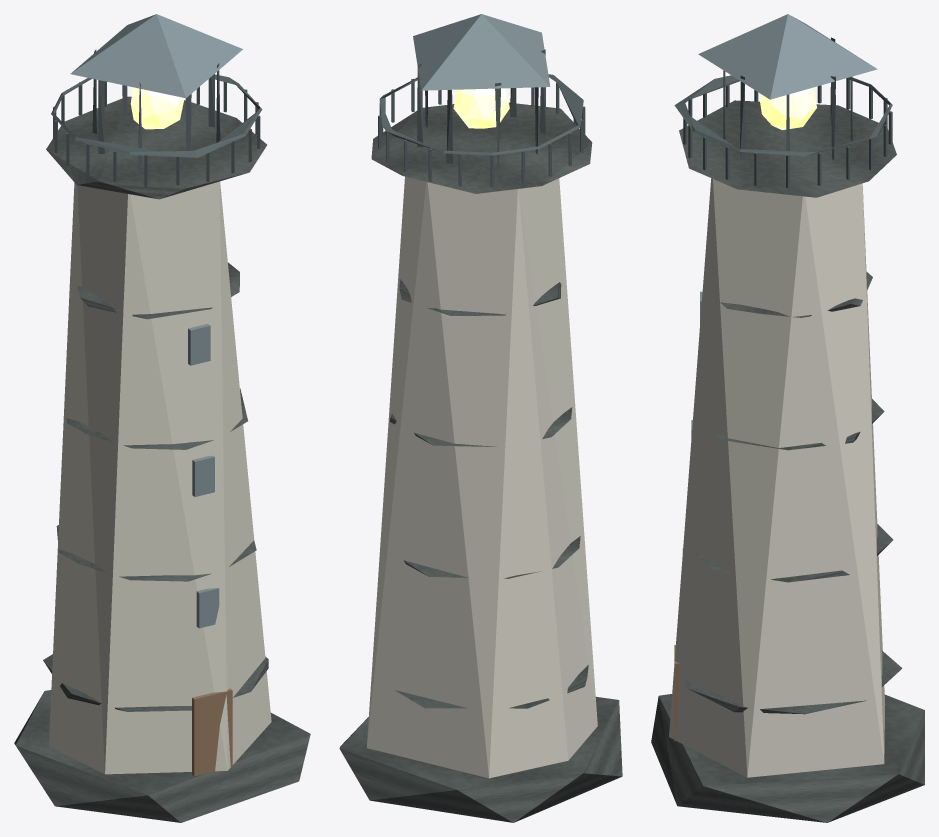
File: lighthouse.lighthouse.lod2.glb
3 views of the same model, side by side, from view 1: azimuth 30°, elevation 25°; view 2: azimuth 150°, elevation 25°; view 3: azimuth 270°, elevation 25° (orthographic).
Visible parts, largest first — view 1: Tower, Plinth, Gallery, Roof, Door, GalleryRail, Lens, StoneCourse, StoneCourse.003, StoneCourse.001, StoneCourse.002, Window.002 (+2 smaller); view 2: Tower, Plinth, Gallery, Roof, Lens, GalleryRail, StoneCourse, StoneCourse.003, StoneCourse.001, StoneCourse.002; view 3: Tower, Plinth, Gallery, Roof, GalleryRail, Lens, StoneCourse, StoneCourse.001, StoneCourse.003, StoneCourse.002.
Boxes of the visible parts, left/top/right/bottom form: Tower: left=49, top=181, right=271, bottom=774; Plinth: left=14, top=690, right=310, bottom=822; Gallery: left=46, top=96, right=266, bottom=199; Roof: left=70, top=14, right=242, bottom=98; Door: left=192, top=688, right=232, bottom=776; GalleryRail: left=51, top=74, right=262, bottom=157; Lens: left=130, top=87, right=184, bottom=129; StoneCourse: left=43, top=654, right=268, bottom=711; StoneCourse.003: left=77, top=262, right=239, bottom=319; StoneCourse.001: left=56, top=525, right=256, bottom=581; StoneCourse.002: left=66, top=388, right=247, bottom=449; Window.002: left=188, top=324, right=210, bottom=365; Tower: left=366, top=176, right=597, bottom=778; Plinth: left=339, top=696, right=622, bottom=822; Gallery: left=371, top=102, right=592, bottom=193; Roof: left=413, top=14, right=550, bottom=90; Lens: left=453, top=88, right=509, bottom=128; GalleryRail: left=379, top=74, right=583, bottom=155; StoneCourse: left=395, top=665, right=588, bottom=708; StoneCourse.003: left=399, top=279, right=561, bottom=315; StoneCourse.001: left=403, top=536, right=580, bottom=578; StoneCourse.002: left=389, top=407, right=572, bottom=446; Tower: left=669, top=178, right=885, bottom=777; Plinth: left=651, top=694, right=924, bottom=822; Gallery: left=679, top=100, right=896, bottom=197; Roof: left=698, top=14, right=877, bottom=99; GalleryRail: left=674, top=75, right=892, bottom=156; Lens: left=760, top=88, right=816, bottom=129; StoneCourse: left=684, top=651, right=902, bottom=714; StoneCourse.001: left=690, top=524, right=893, bottom=582; StoneCourse.003: left=720, top=271, right=872, bottom=317; StoneCourse.002: left=705, top=399, right=884, bottom=450.
Size of the model in its own units: 7.94 by 23.35 by 7.73.
Materials: 6 (1 with a texture image).
